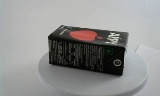appy: (43, 24, 121, 76)
